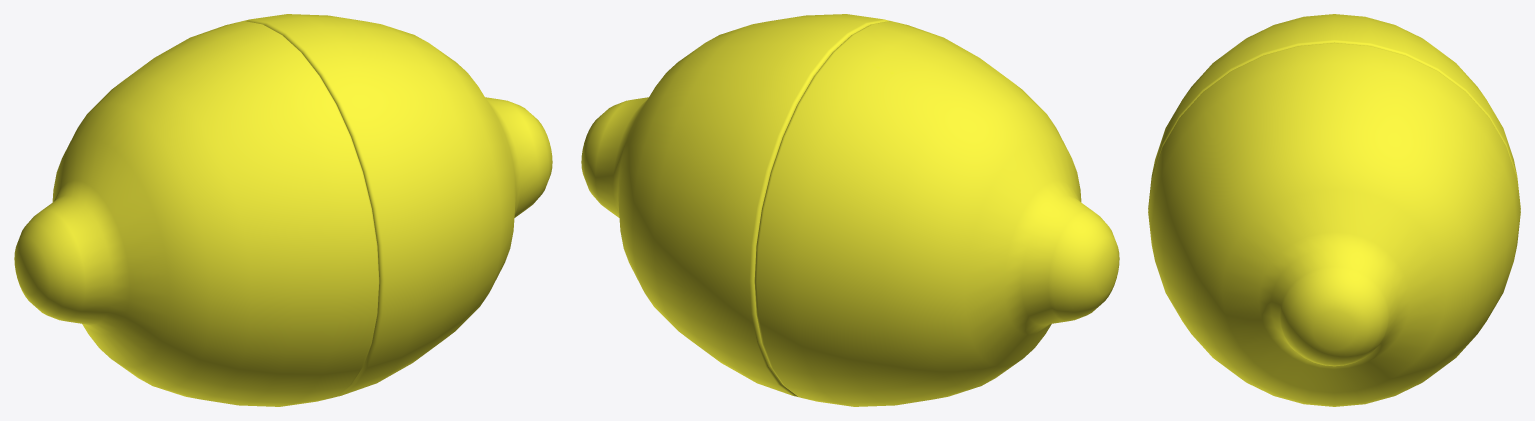
Rendered from LemonToy.fbx.
3 renders of one model, left to right at view 1: azimuth 30°, elevation 25°; view 2: azimuth 150°, elevation 25°; view 3: azimuth 270°, elevation 25°, orthographic. The views are drawn at different scales.
Parts seen in each view (by area): view 1: Lemon; view 2: Lemon; view 3: Lemon.
Boxes of the visible parts, left/top/right/bottom form: Lemon: left=14, top=14, right=552, bottom=406; Lemon: left=581, top=14, right=1119, bottom=406; Lemon: left=1148, top=14, right=1520, bottom=406.
Bounding box in the file's own units: 2.58 × 1.68 × 1.68.
